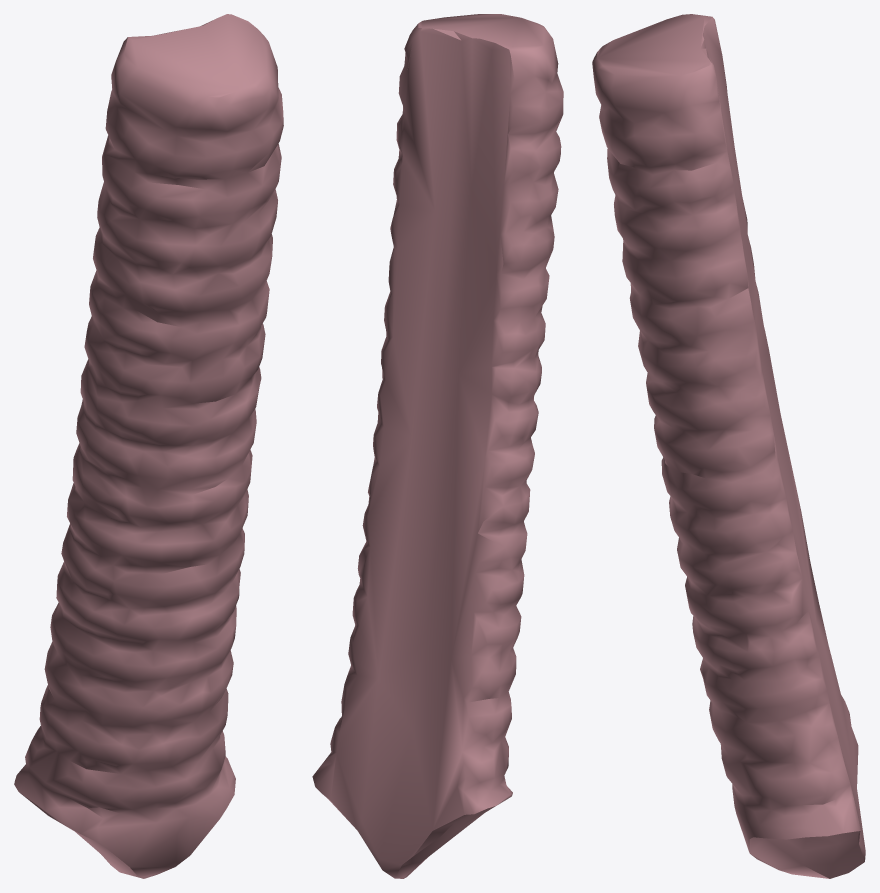
File: trachea.glb
3 renders of one model, left to right at view 1: azimuth 30°, elevation 25°; view 2: azimuth 150°, elevation 25°; view 3: azimuth 270°, elevation 25°, orthographic. The views are drawn at different scales.
Parts seen in each view (by area): view 1: trachea; view 2: trachea; view 3: trachea.
Part boxes in pixels (x1,y1,x2,y2): trachea: (14, 14, 283, 878); trachea: (312, 14, 563, 878); trachea: (592, 14, 865, 878).
Size of the model in its own units: 0.0259 by 0.1103 by 0.0327.
